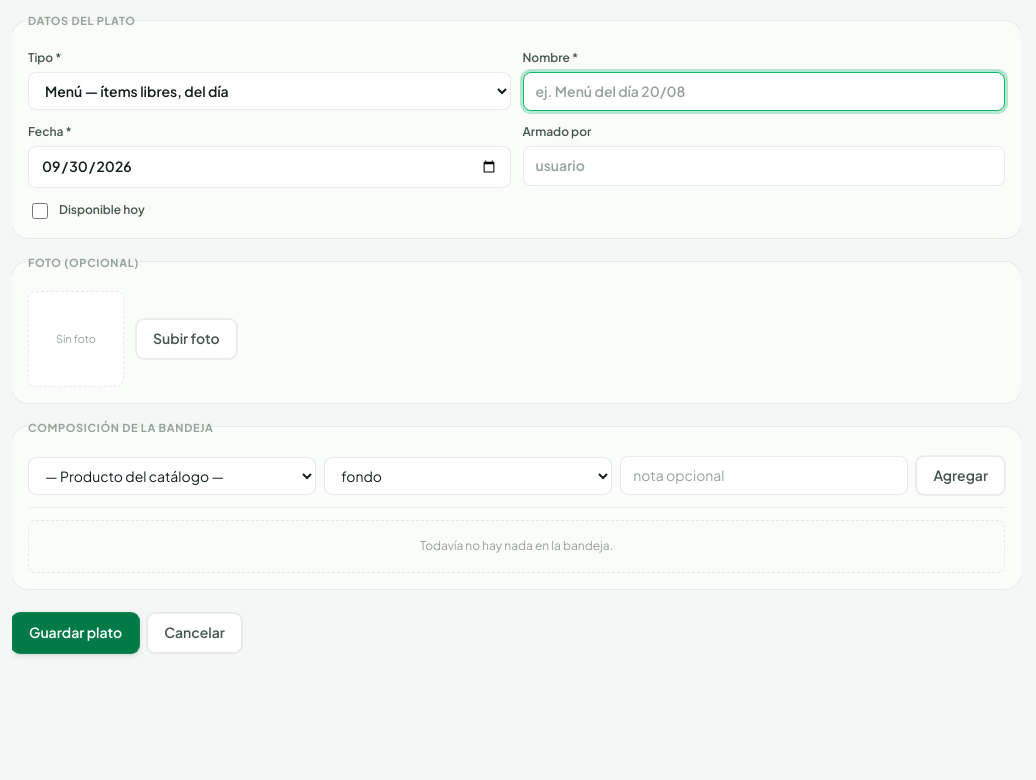
Test: PlatoForm › no permite agregar más de un item con rol agregado
The width and height of the screenshot is (1036, 780).
Type "Menú" into the field labelled "Nombre *".
click(764, 91); type("Menú")  # box [522,72,1005,111]
agregar un item con rol fondo
Select "Pescado frito (fondo)" in the 1st dropdown showing "— Producto del catálogo —" at (172, 476), box [28,457,316,495]
Click the button "Agregar".
click(961, 476)  # box [916,456,1005,495]
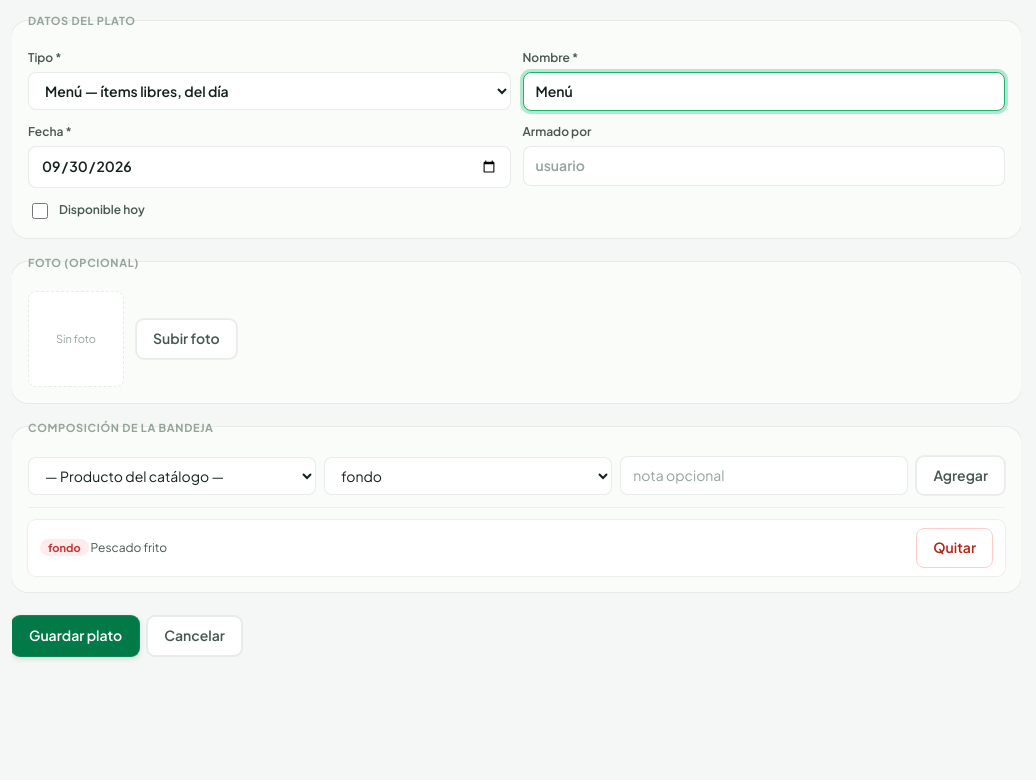
agregar un item con rol agregado
Select "Arroz (agregado)" in the 1st dropdown showing "— Producto del catálogo —" at (172, 476), box [28,457,316,495]
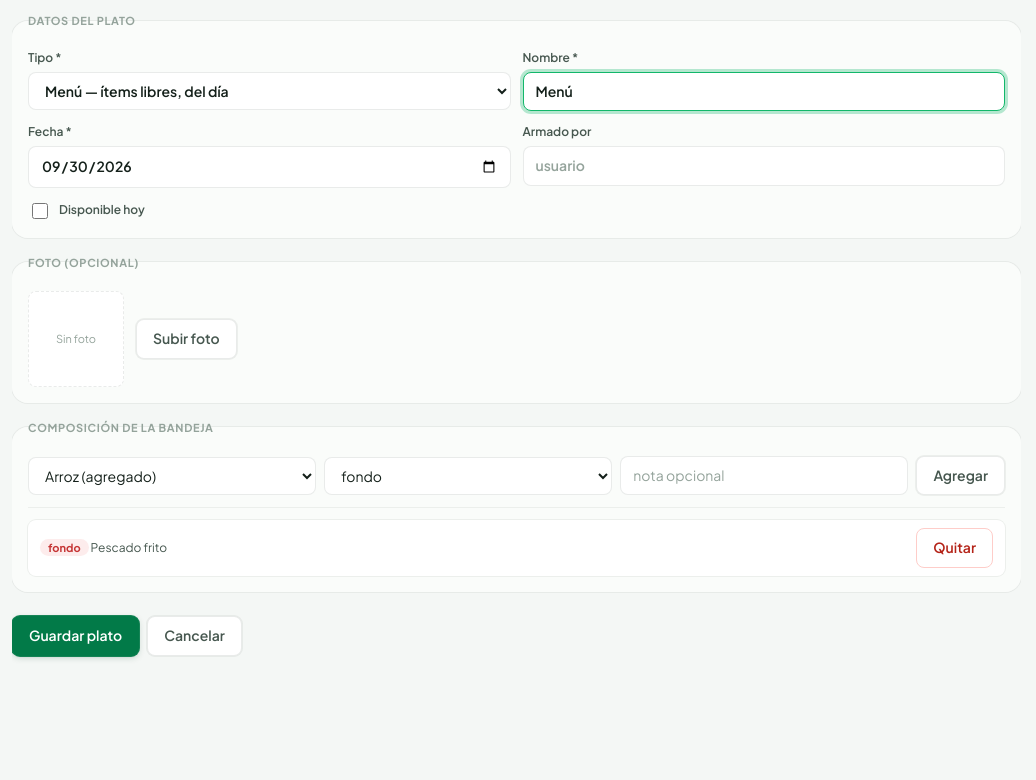
Select "agregado" in the 2nd dropdown showing "fondo" at (468, 476), box [324,457,612,495]
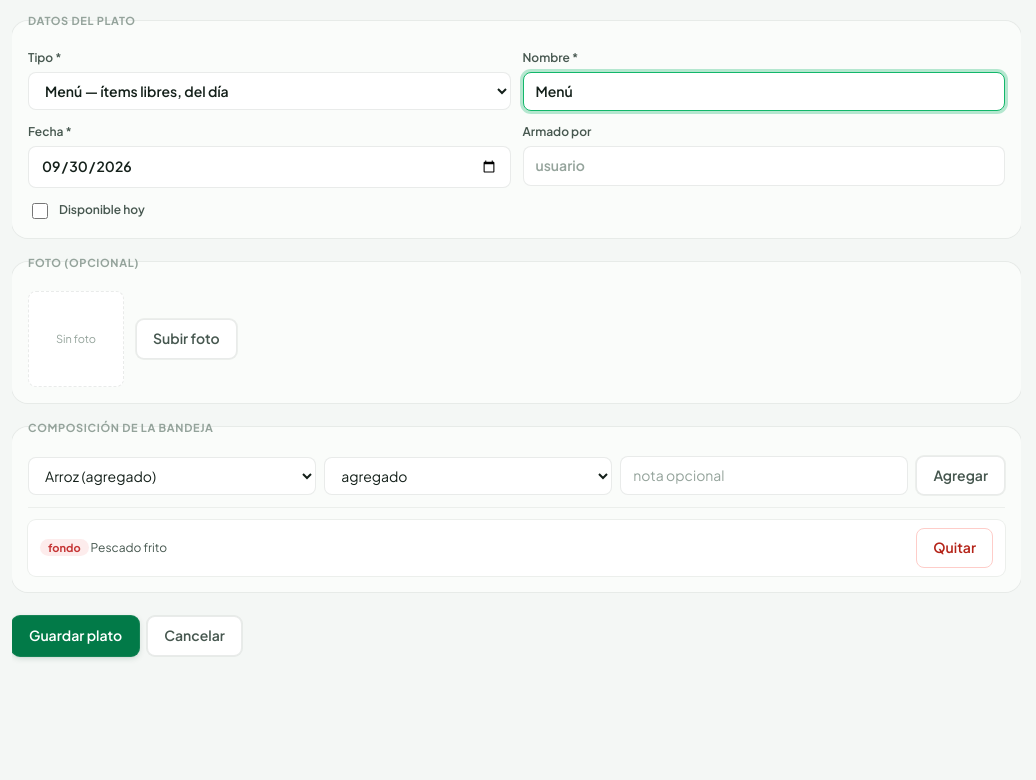
Click the button "Agregar".
click(961, 476)  # box [916,456,1005,495]
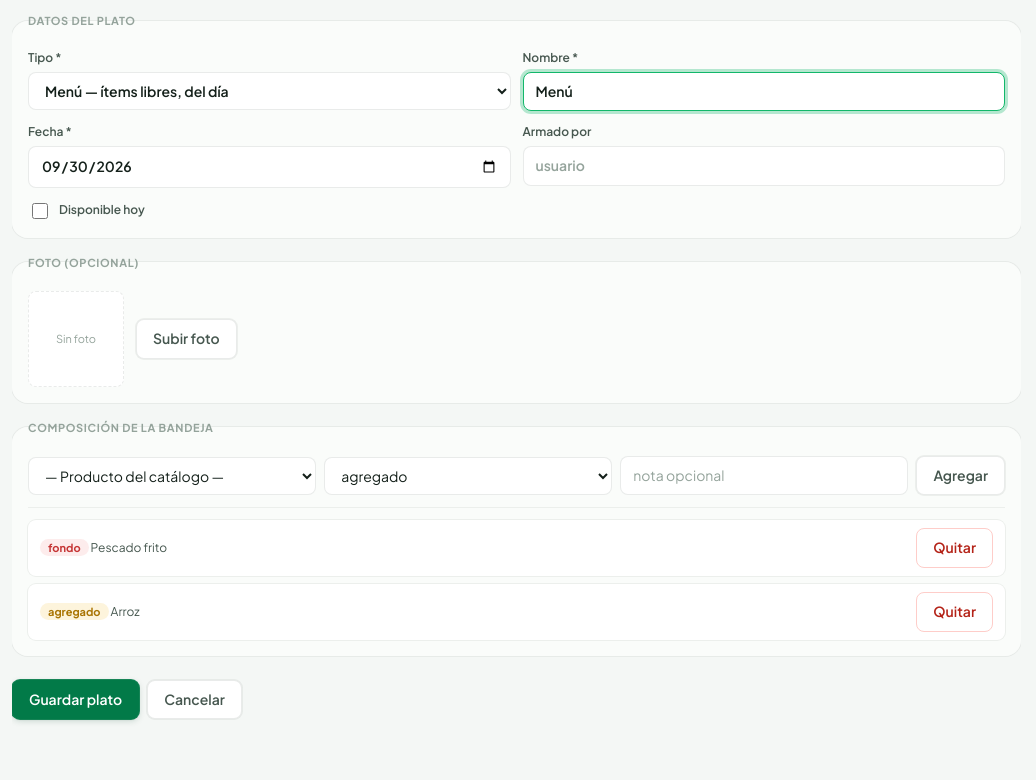
intentar agregar un segundo item con rol agregado (el select de rol sigue en 'agregado')
Select "Arroz (agregado)" in the 1st dropdown showing "— Producto del catálogo —" at (172, 476), box [28,457,316,495]
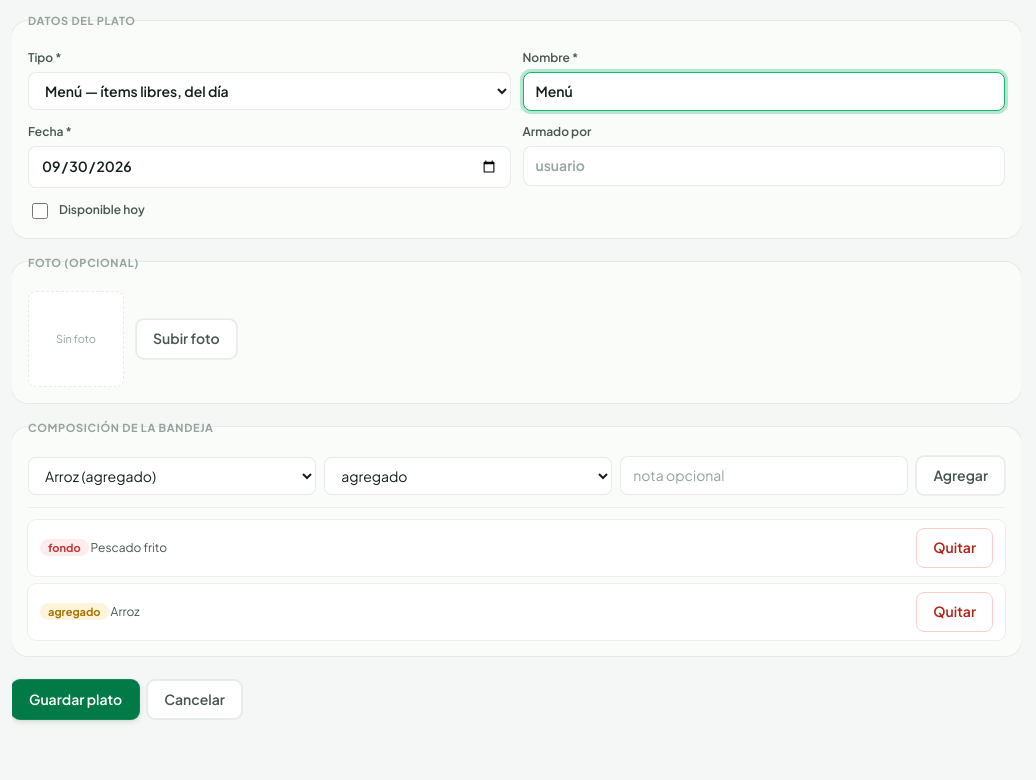
Click the button "Agregar".
click(961, 476)  # box [916,456,1005,495]
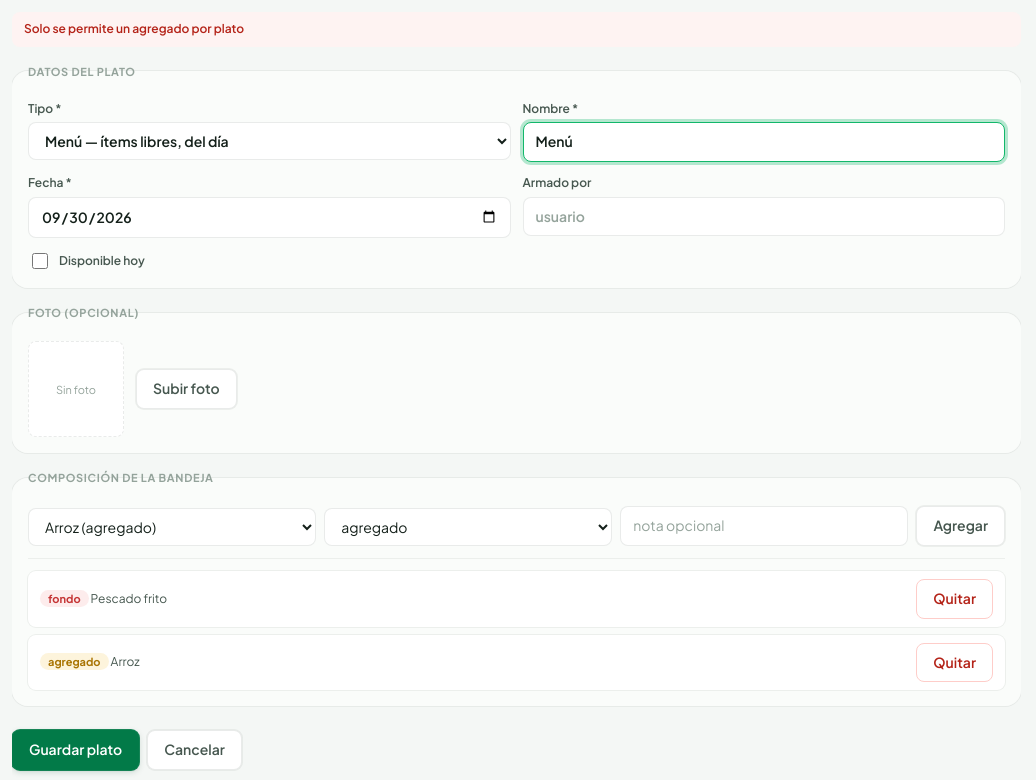
Check: the number of buttons "Quitar" is 2, box [916,579,993,619]; [916,643,993,682]
Check: the text "Solo se permite un agregado por plato" is shown, box [12,12,1021,47]
